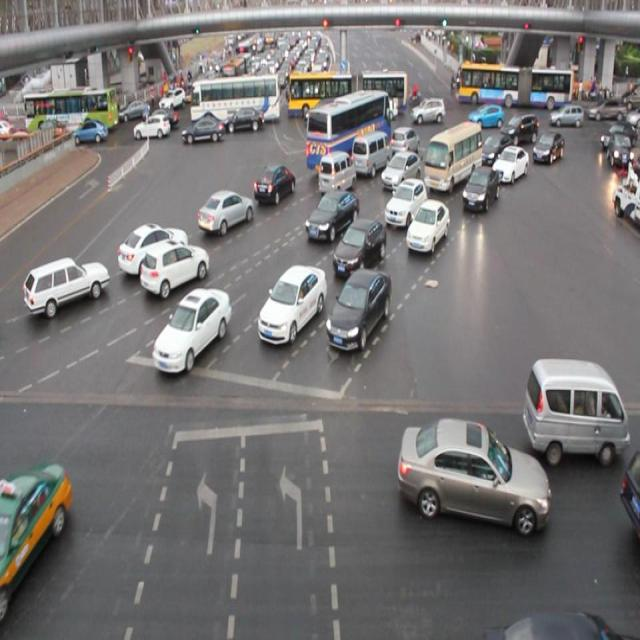car: (394, 415, 550, 536), (1, 454, 76, 628), (153, 287, 231, 372), (257, 263, 328, 349), (324, 267, 391, 353), (23, 255, 109, 319), (117, 221, 188, 278), (142, 241, 211, 295), (333, 217, 387, 274), (197, 187, 253, 236), (305, 192, 360, 239), (405, 200, 451, 256), (383, 179, 426, 228), (460, 167, 500, 212), (254, 163, 297, 204), (380, 153, 421, 193), (491, 143, 526, 183), (478, 133, 513, 169), (501, 115, 538, 145), (390, 125, 419, 161), (532, 132, 564, 164)
truck: (521, 356, 629, 466), (420, 126, 476, 192), (351, 131, 393, 177), (317, 152, 355, 198)
van: (306, 91, 392, 176)
